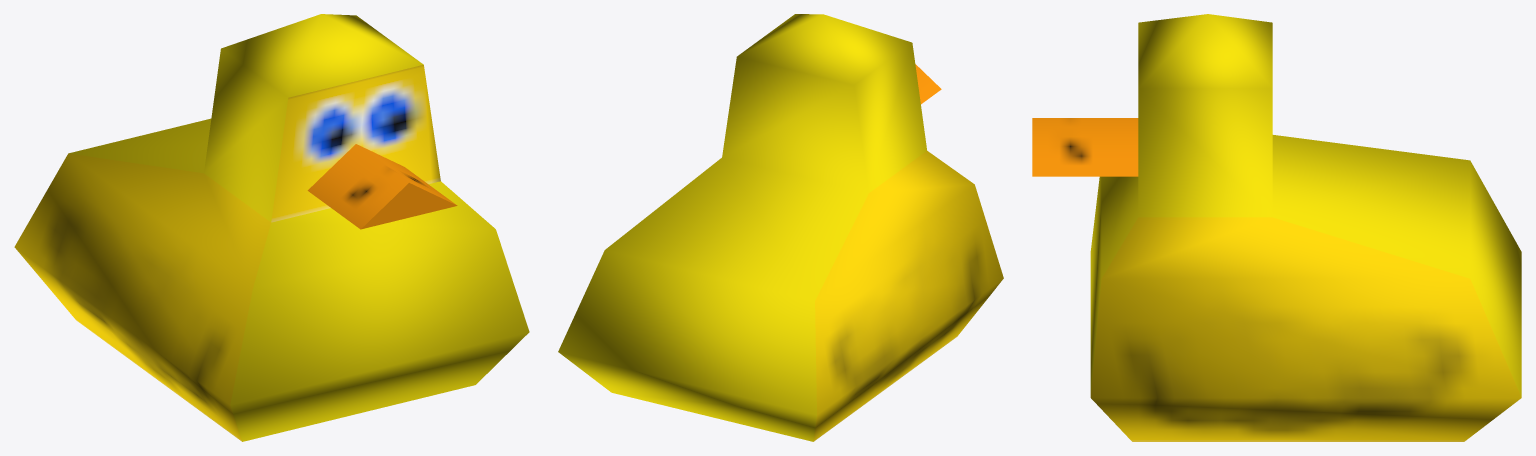
File: RubberDuck.fbx
3 renders of one model, left to right at view 1: azimuth 30°, elevation 25°; view 2: azimuth 150°, elevation 25°; view 3: azimuth 270°, elevation 25°, orthographic. The views are drawn at different scales.
Visible parts, largest first — view 1: Maya_File_Assets:TexturedAssetsCurrent:QuentonAssets02:Rubbe; view 2: Maya_File_Assets:TexturedAssetsCurrent:QuentonAssets02:Rubbe; view 3: Maya_File_Assets:TexturedAssetsCurrent:QuentonAssets02:Rubbe.
Part boxes in pixels (x1,y1,x2,y2): Maya_File_Assets:TexturedAssetsCurrent:QuentonAssets02:Rubbe: [14, 14, 529, 441]; Maya_File_Assets:TexturedAssetsCurrent:QuentonAssets02:Rubbe: [558, 14, 1003, 441]; Maya_File_Assets:TexturedAssetsCurrent:QuentonAssets02:Rubbe: [1032, 14, 1521, 441].
Size of the model in its own units: 0.0881 by 0.1046 by 0.125.
